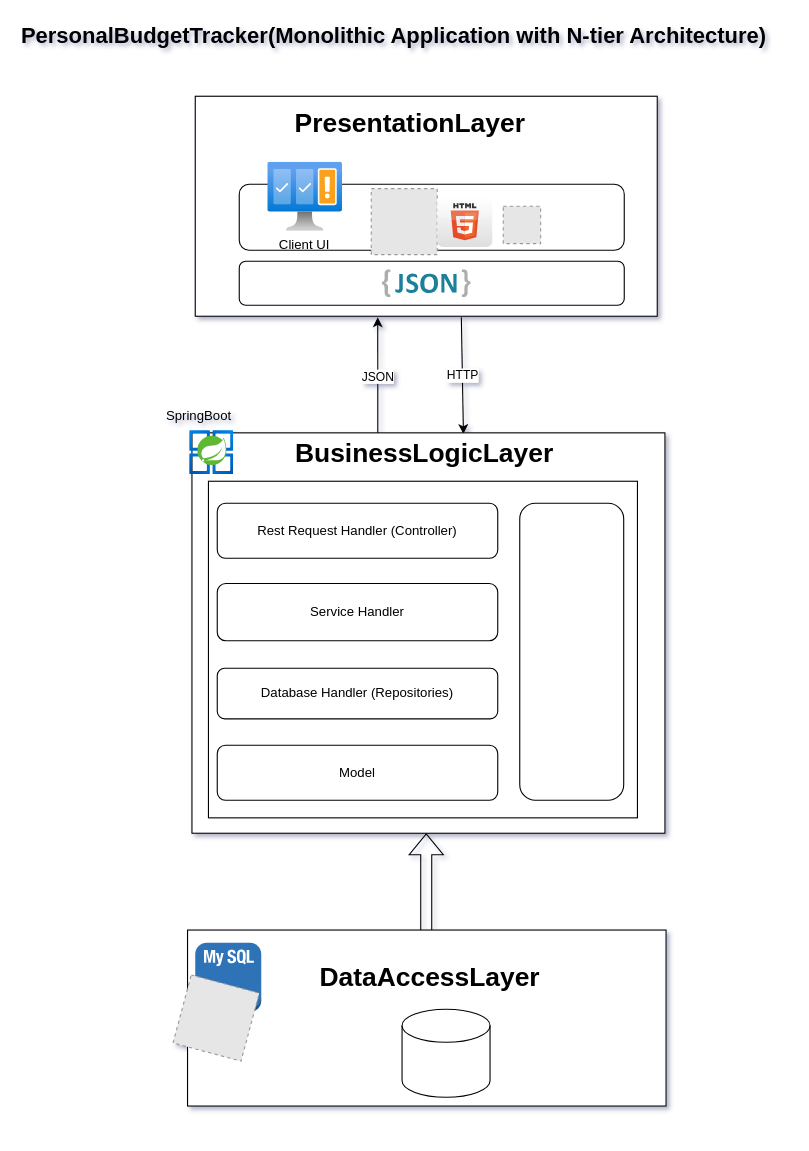
The diagram is 809 pixels wide and 1151 high, and some of its shapes have lost their labels. Grey dashed boxes stand in for pictures. The centre of each missing label's shape, as x and y in pixels:
"MySQL" goes at pixel 445 1052.
"Spring Security" goes at pixel 571 651.
